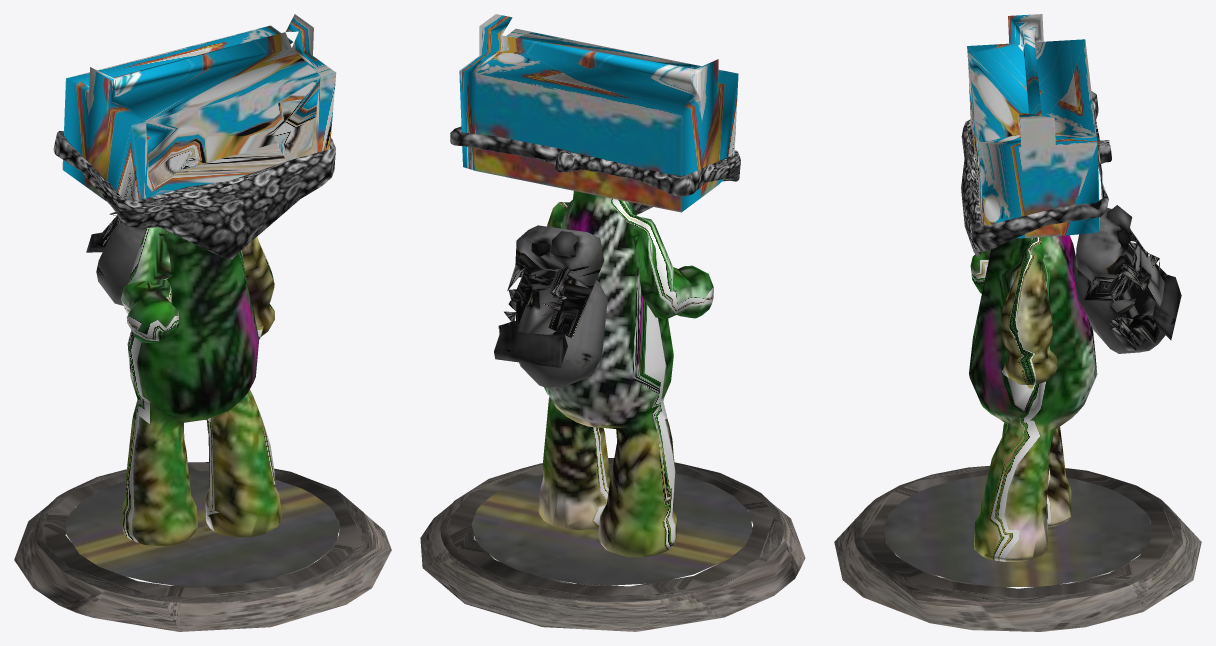
3 renders of one model, left to right at view 1: azimuth 30°, elevation 25°; view 2: azimuth 150°, elevation 25°; view 3: azimuth 270°, elevation 25°, orthographic. The views are drawn at different scales.
Bounding box in the file's own units: 1.44 × 2.12 × 1.43.
Materials: 6 (6 with a texture image).
